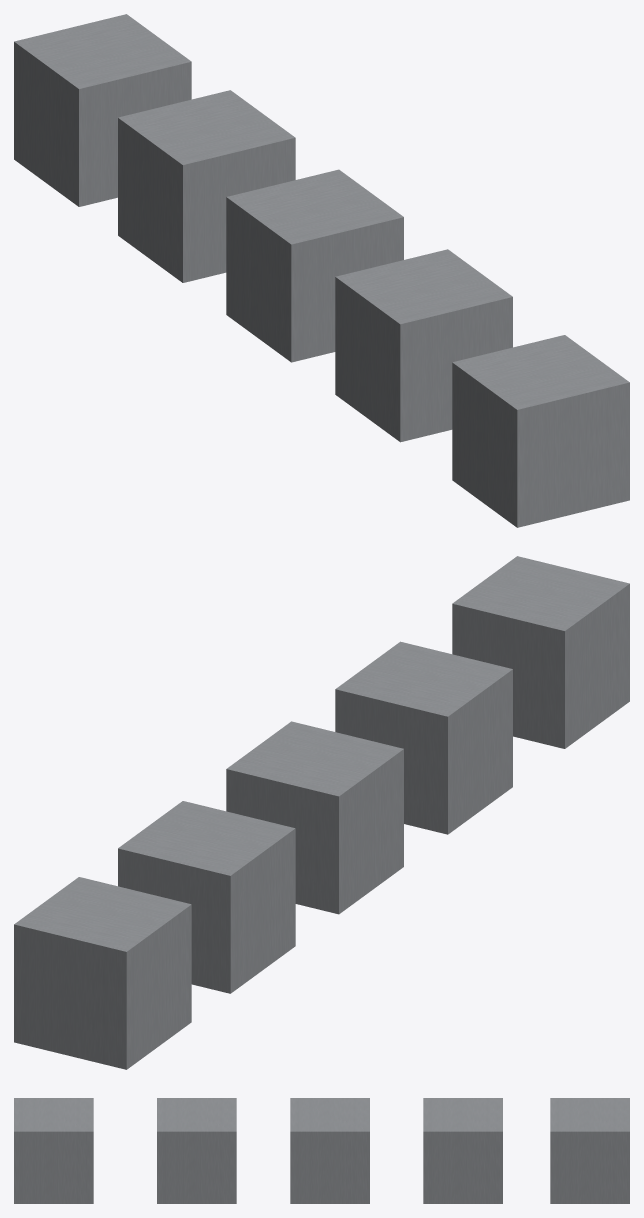
The model's file is house cube.fbx.
3 views of the same model, one above another, from view 1: azimuth 30°, elevation 25°; view 2: azimuth 150°, elevation 25°; view 3: azimuth 270°, elevation 25° (orthographic). The views are drawn at different scales.
Visible parts, largest first — view 1: Cube.003, Cube, Cube.001, Cube.002, Cube.004; view 2: Cube.004, Cube.003, Cube, Cube.001, Cube.002; view 3: Cube, Cube.001, Cube.002, Cube.003, Cube.004.
Part boxes in pixels (bbox=[...]): Cube.003: bbox=[452, 335, 629, 527]; Cube: bbox=[335, 249, 512, 442]; Cube.001: bbox=[226, 169, 403, 362]; Cube.002: bbox=[118, 90, 295, 282]; Cube.004: bbox=[14, 14, 191, 206]; Cube.004: bbox=[14, 877, 191, 1069]; Cube.003: bbox=[452, 556, 629, 748]; Cube: bbox=[335, 641, 512, 834]; Cube.001: bbox=[226, 721, 403, 914]; Cube.002: bbox=[118, 801, 295, 993]; Cube: bbox=[157, 1098, 236, 1203]; Cube.001: bbox=[290, 1098, 369, 1203]; Cube.002: bbox=[423, 1098, 502, 1203]; Cube.003: bbox=[14, 1098, 93, 1203]; Cube.004: bbox=[550, 1098, 629, 1203].
Bounding box in the file's own units: 200 × 200 × 1547.
Materials: 5 (5 with a texture image).
